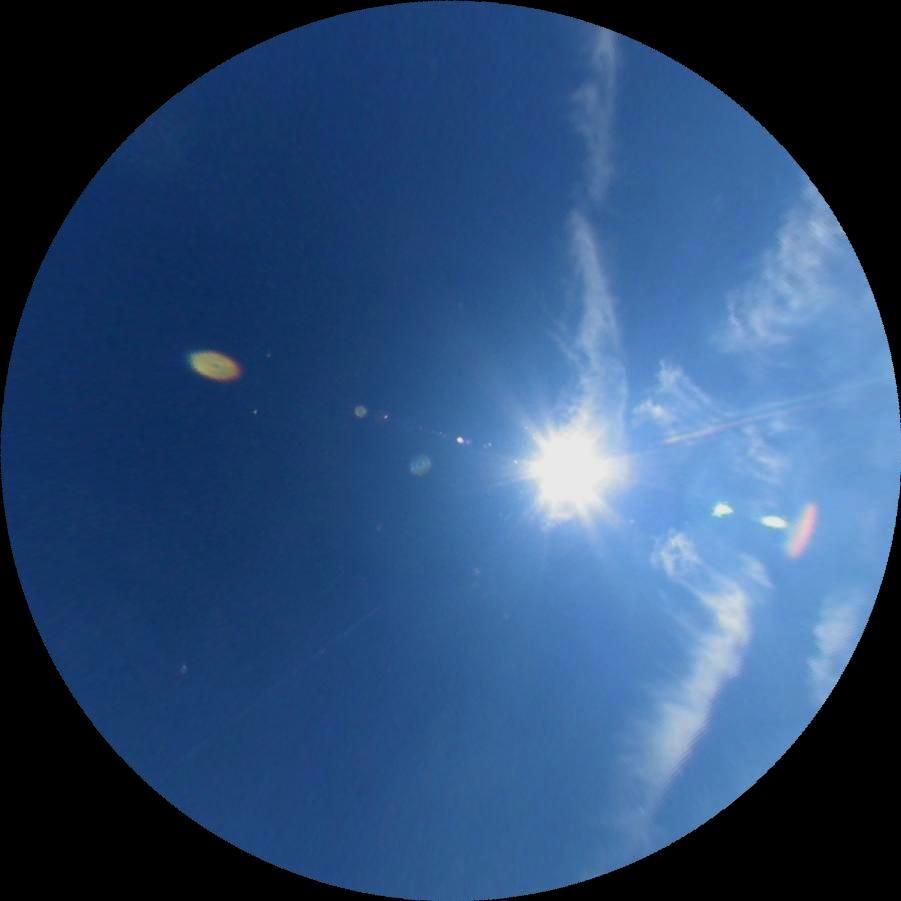contrail veryold: (552, 29, 644, 462)
parasite: (658, 398, 828, 447)
sun: (516, 421, 614, 519)
